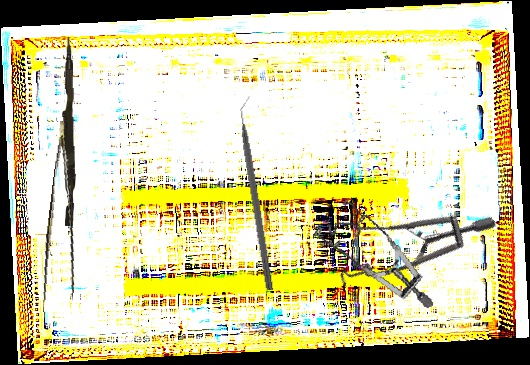Chopper: (235, 95, 284, 291)
Pusher: (58, 36, 79, 227)
Speculum: (307, 141, 498, 325), (306, 184, 434, 332)
Tissue Forceps: (37, 120, 95, 310)
